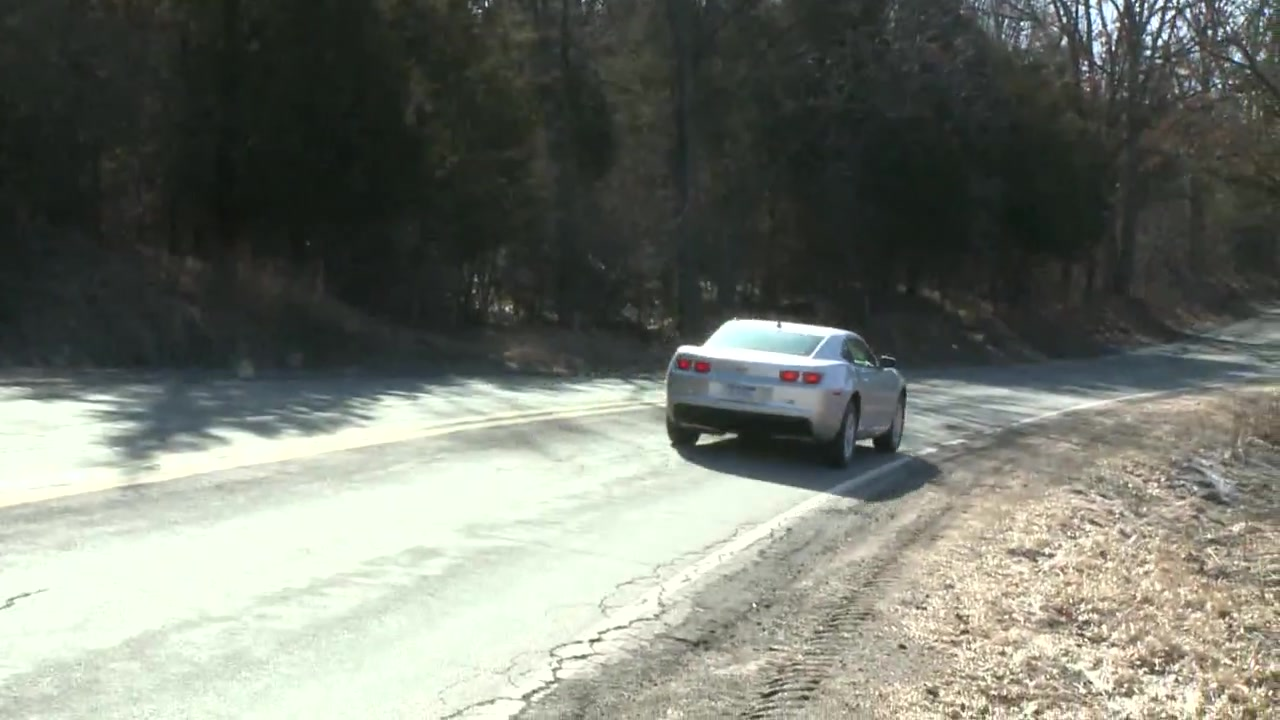car: (658, 313, 911, 465)
